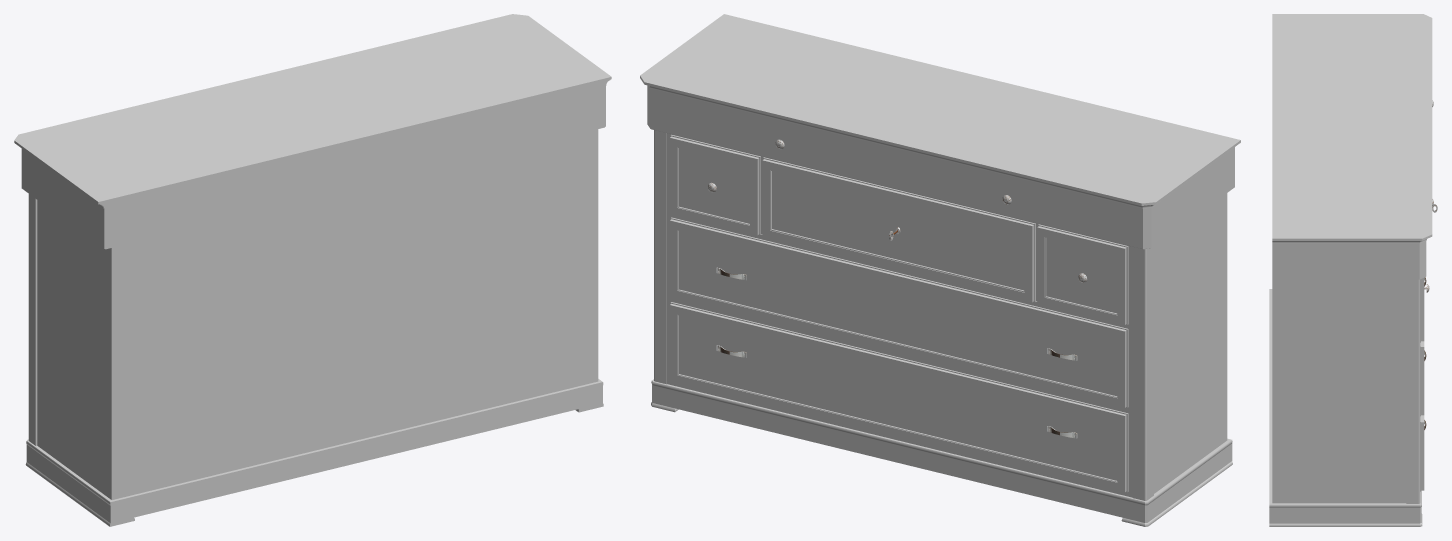
3 views of the same model, side by side, from view 1: azimuth 30°, elevation 25°; view 2: azimuth 150°, elevation 25°; view 3: azimuth 270°, elevation 25° (orthographic). The views are drawn at different scales.
Parts seen in each view (by area): view 1: mesh34_mesh34-geometry, mesh3_mesh3-geometry, mesh5_mesh5-geometry; view 2: mesh34_mesh34-geometry, mesh3_mesh3-geometry, mesh14_mesh14-geometry, mesh9_mesh9-geometry, mesh29_mesh29-geometry, mesh1_mesh1-geometry, mesh7_mesh7-geometry, mesh24_mesh24-geometry, mesh19_mesh19-geometry, mesh5_mesh5-geometry; view 3: mesh34_mesh34-geometry, mesh3_mesh3-geometry, mesh5_mesh5-geometry, mesh9_mesh9-geometry, mesh14_mesh14-geometry, mesh19_mesh19-geometry.
Part boxes in pixels (box(x1,y1,x2,y2)): mesh34_mesh34-geometry: box(25, 129, 603, 526); mesh3_mesh3-geometry: box(14, 14, 611, 209); mesh5_mesh5-geometry: box(21, 87, 605, 249); mesh34_mesh34-geometry: box(651, 130, 1232, 526); mesh3_mesh3-geometry: box(640, 14, 1240, 209); mesh14_mesh14-geometry: box(669, 217, 1128, 407); mesh9_mesh9-geometry: box(669, 302, 1128, 492); mesh29_mesh29-geometry: box(762, 157, 1035, 302); mesh1_mesh1-geometry: box(669, 94, 896, 188); mesh7_mesh7-geometry: box(896, 149, 1123, 244); mesh24_mesh24-geometry: box(1037, 224, 1128, 324); mesh19_mesh19-geometry: box(669, 134, 760, 235); mesh5_mesh5-geometry: box(647, 85, 1234, 249); mesh34_mesh34-geometry: box(1269, 279, 1422, 526); mesh3_mesh3-geometry: box(1272, 14, 1432, 244); mesh5_mesh5-geometry: box(1272, 242, 1426, 279); mesh9_mesh9-geometry: box(1420, 415, 1424, 491); mesh14_mesh14-geometry: box(1420, 341, 1424, 416); mesh19_mesh19-geometry: box(1420, 278, 1424, 342).
Bounding box in the file's own units: 0.8252 × 0.5009 × 0.261.
